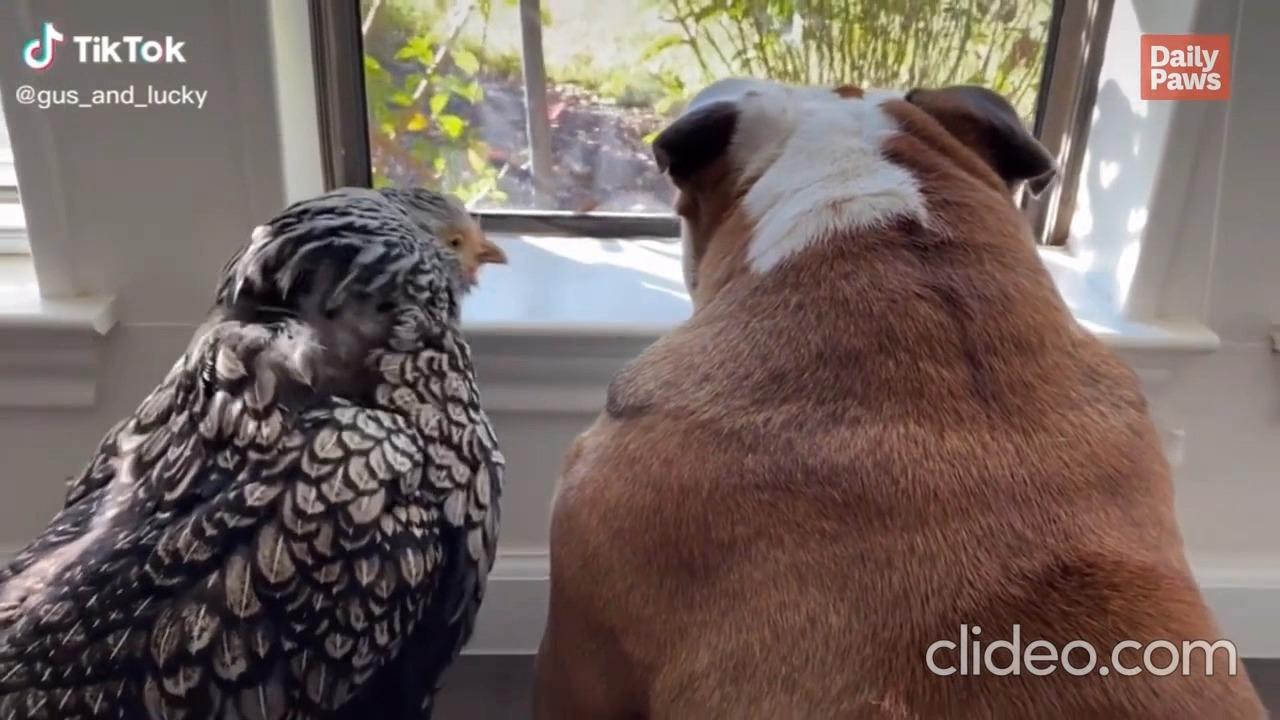Normal: (152, 172, 509, 677)
